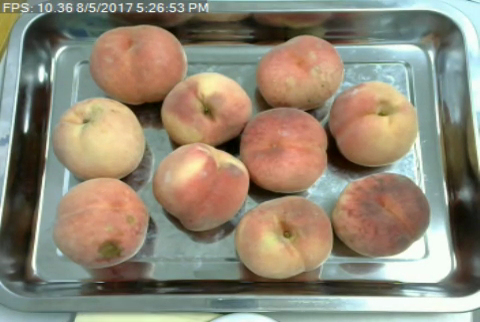Peach: (52, 176, 149, 268), (153, 141, 249, 233), (333, 172, 431, 256), (233, 197, 333, 279), (237, 105, 329, 193), (89, 24, 188, 103), (52, 97, 145, 181), (328, 81, 416, 167), (159, 71, 251, 148), (253, 34, 344, 109)
